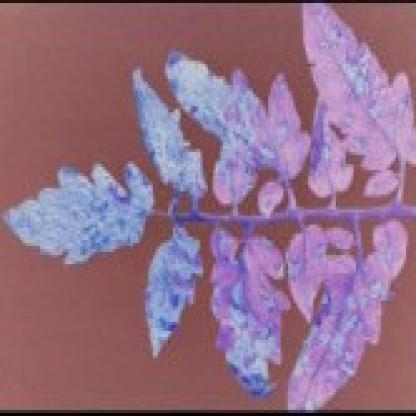tomato septoria leaf spot: (281, 225, 406, 410), (293, 9, 408, 191), (211, 228, 291, 398), (261, 73, 306, 206), (286, 222, 326, 328)
